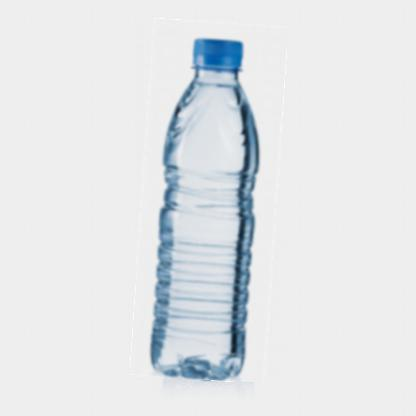plastic-bottles: (137, 21, 283, 382)
